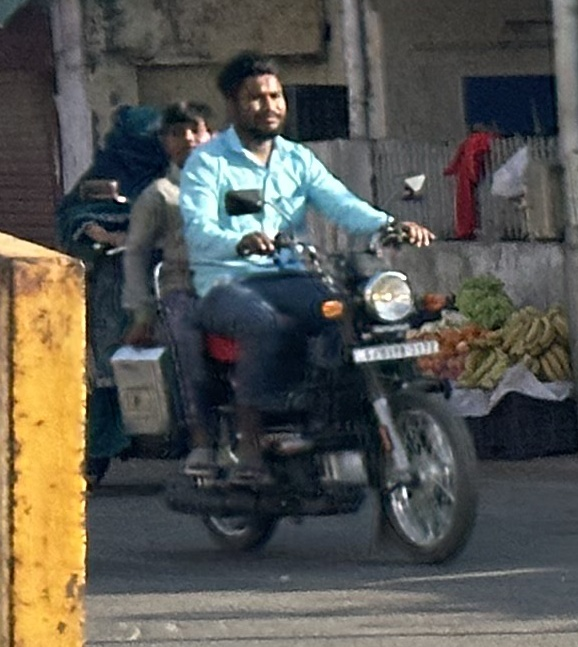BikeWithRider: (120, 50, 486, 556)
NoHelmet: (212, 50, 291, 137), (158, 99, 215, 169)
